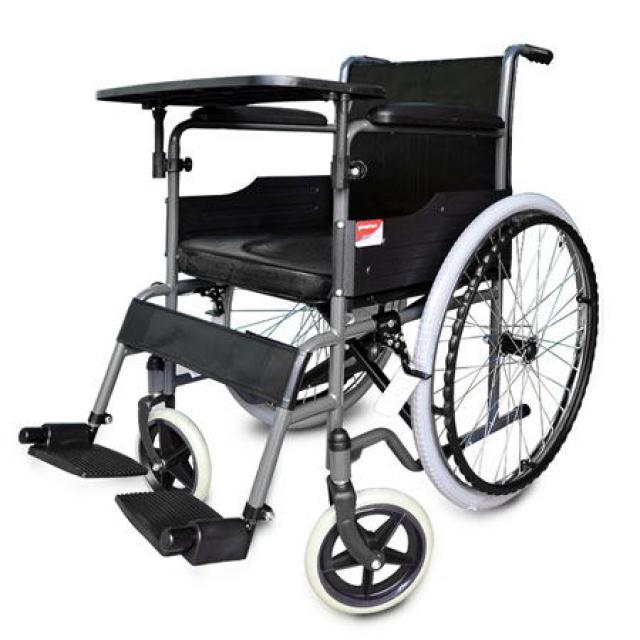wheelchair: (0, 28, 608, 639)
